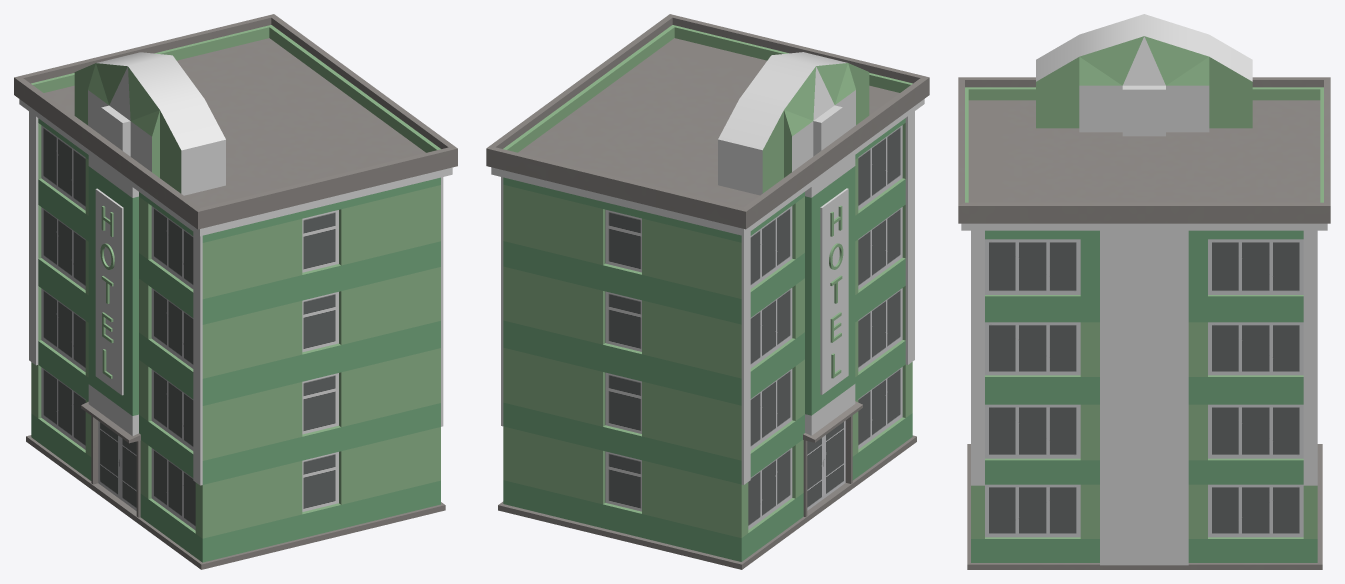
The model's file is hotel1.fbx.
The picture shows the model from 3 angles, left to right: view 1: azimuth 30°, elevation 25°; view 2: azimuth 150°, elevation 25°; view 3: azimuth 270°, elevation 25°; orthographic projection.
Parts seen in each view (by area): view 1: sptp_building_14; view 2: sptp_building_14; view 3: sptp_building_14.
Boxes of the visible parts, x1,y1,x2,y2 form: sptp_building_14: (14, 14, 457, 569); sptp_building_14: (486, 14, 929, 569); sptp_building_14: (958, 14, 1330, 569).
Bounding box in the file's own units: 788 × 1259 × 961.
1 material, 1 textured.
